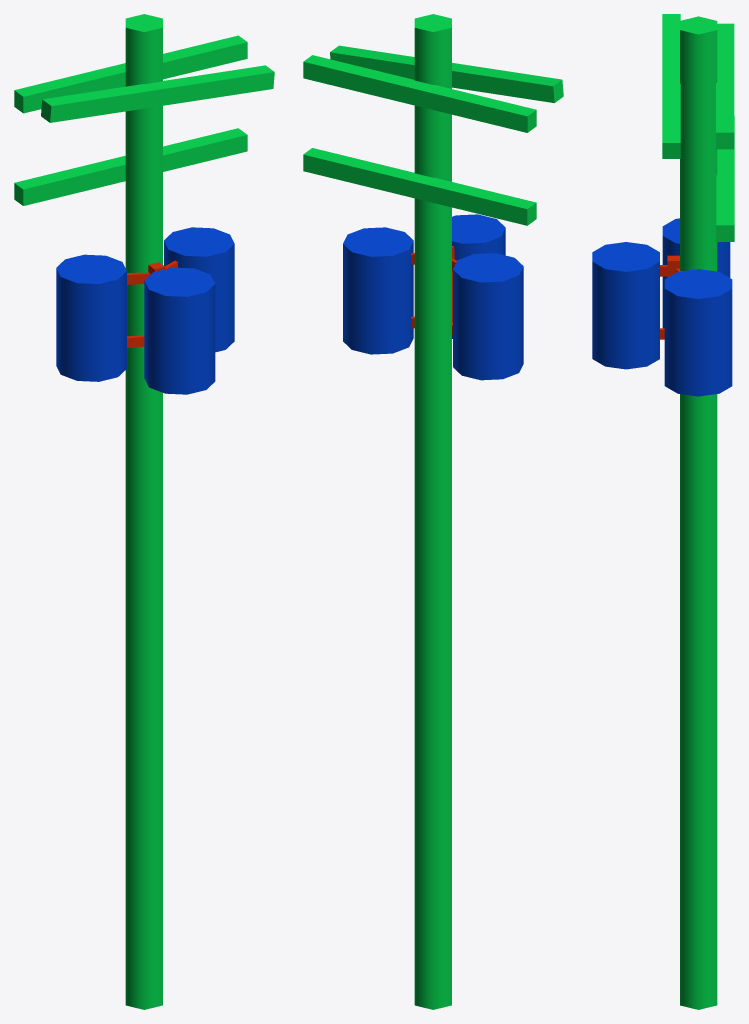
File: ElectricalPole01.fbx
3 renders of one model, left to right at view 1: azimuth 30°, elevation 25°; view 2: azimuth 150°, elevation 25°; view 3: azimuth 270°, elevation 25°, orthographic.
Parts seen in each view (by area): view 1: ElectricalPole01; view 2: ElectricalPole01; view 3: ElectricalPole01.
Part boxes in pixels (x1,y1,x2,y2): ElectricalPole01: (14, 14, 274, 1009); ElectricalPole01: (303, 14, 563, 1009); ElectricalPole01: (592, 14, 734, 1009).
Bounding box in the file's own units: 241 × 1000 × 132.
